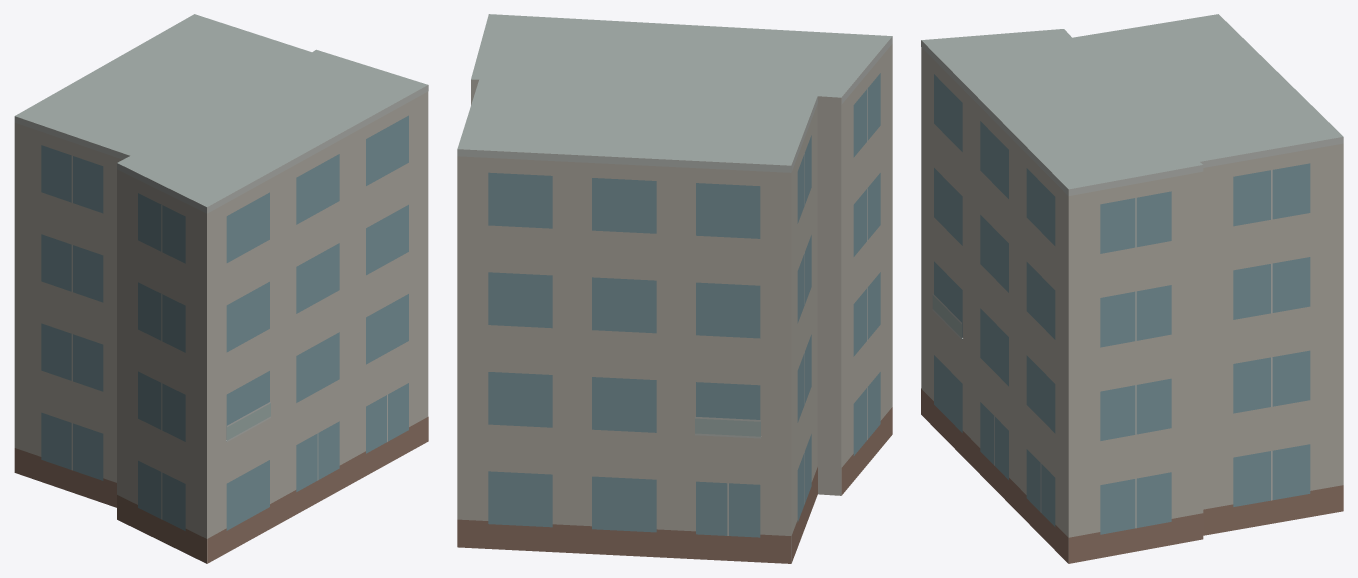
Rendered from survey-upis-32627475.glb.
3 renders of one model, left to right at view 1: azimuth 30°, elevation 25°; view 2: azimuth 150°, elevation 25°; view 3: azimuth 270°, elevation 25°, orthographic. The views are drawn at different scales.
Parts seen in each view (by area): view 1: survey-upis-32627475.tmp; view 2: survey-upis-32627475.tmp; view 3: survey-upis-32627475.tmp.
Boxes of the visible parts, bbox=[...] form: survey-upis-32627475.tmp: bbox=[14, 14, 428, 563]; survey-upis-32627475.tmp: bbox=[457, 14, 892, 563]; survey-upis-32627475.tmp: bbox=[921, 14, 1343, 563].
Size of the model in its own units: 13.57 by 13.5 by 13.82.
